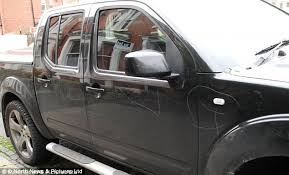Scratch: (183, 83, 238, 135), (118, 87, 165, 120), (250, 88, 271, 117)
